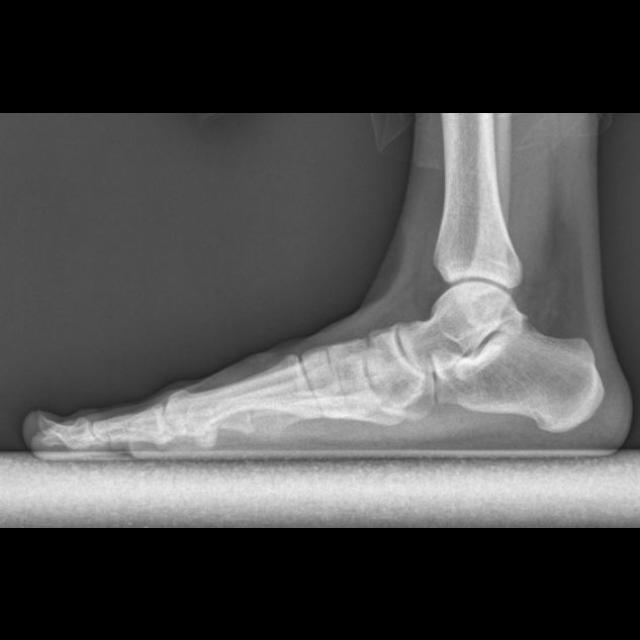a: (432, 316, 603, 429)
b: (364, 325, 424, 402)
c: (165, 353, 321, 435)
